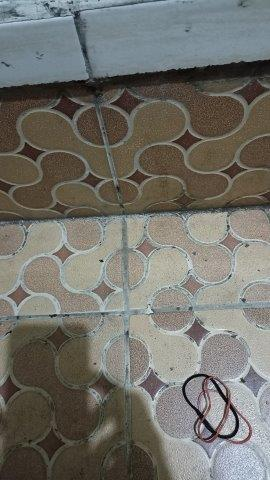karet: (182, 373, 253, 444)
